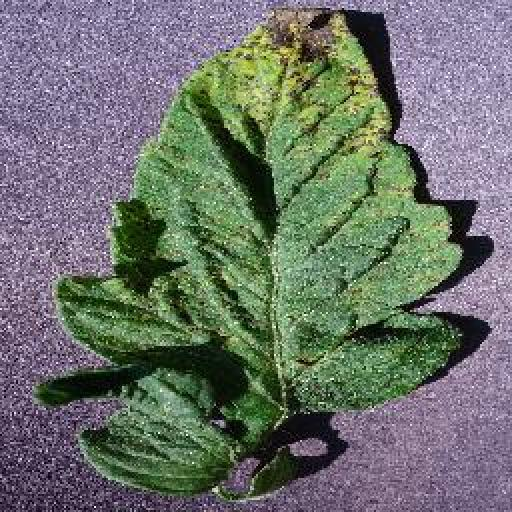Septoria: (34, 7, 464, 493)
